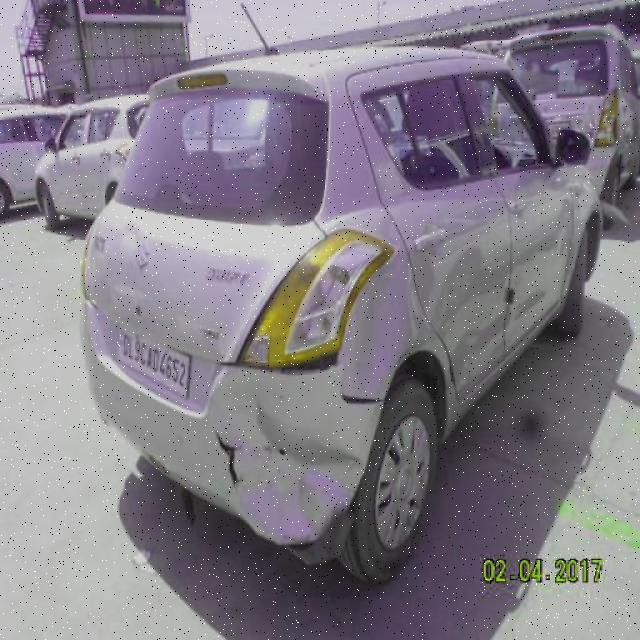car damage: (249, 404, 367, 553), (225, 350, 381, 412), (213, 426, 244, 492)
